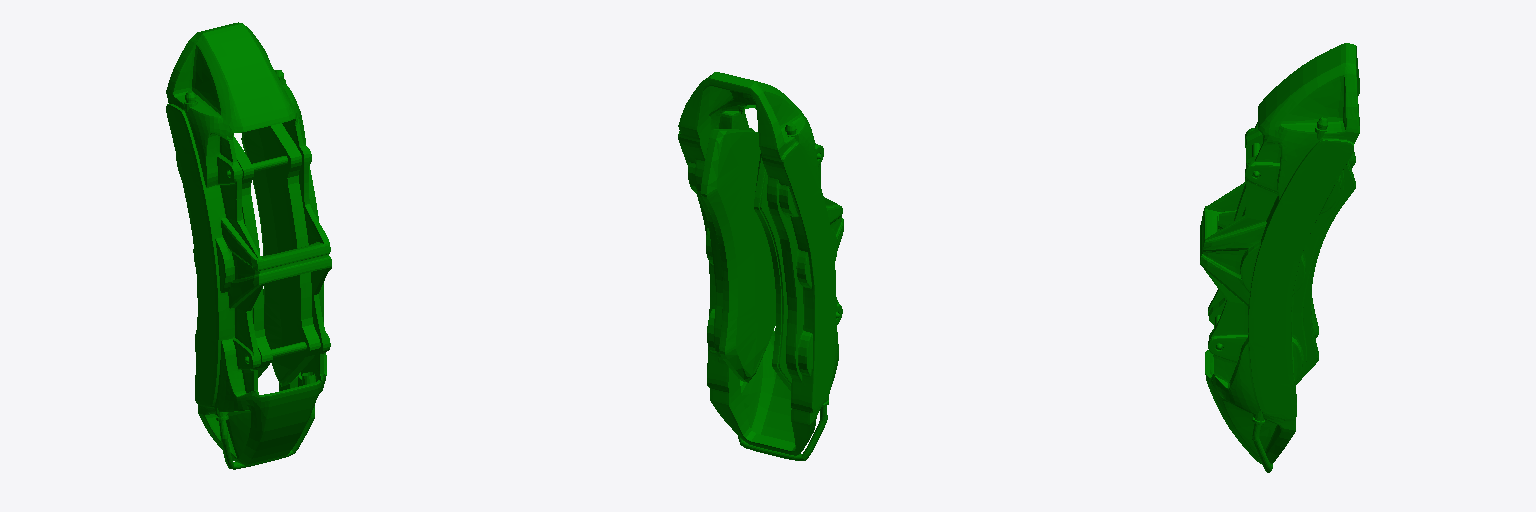
File: freno_del_der.obj
The picture shows the model from 3 angles: view 1: azimuth 30°, elevation 25°; view 2: azimuth 150°, elevation 25°; view 3: azimuth 270°, elevation 25°; orthographic projection.
Visible parts, largest first — view 1: support__4_; view 2: support__4_; view 3: support__4_.
Boxes of the visible parts, <box> form: support__4_: <box>166,22,331,469</box>; support__4_: <box>678,72,843,460</box>; support__4_: <box>1200,43,1359,472</box>.
Size of the model in its own units: 1.19 by 4.36 by 1.56.